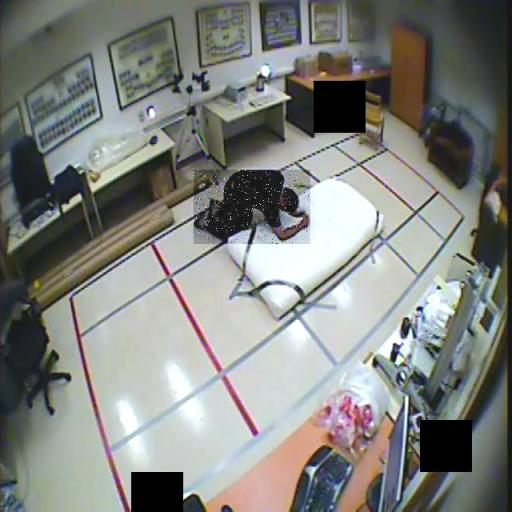Fall: (194, 170, 311, 244)
